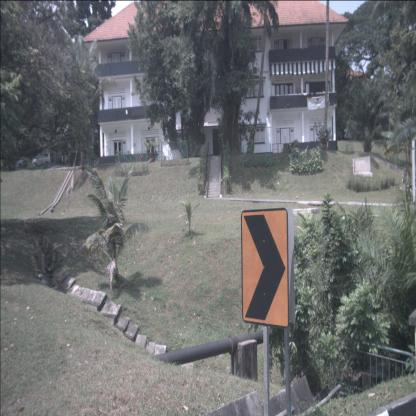vehicle-car: (32, 151, 51, 167), (11, 158, 27, 169)
